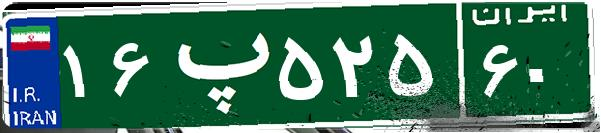0: (525, 38, 570, 115)
1: (57, 26, 110, 107)
2: (330, 28, 385, 110)
5: (385, 28, 445, 110), (273, 28, 330, 110)
6: (475, 38, 525, 113), (110, 28, 158, 105)
پ: (158, 15, 273, 115)
